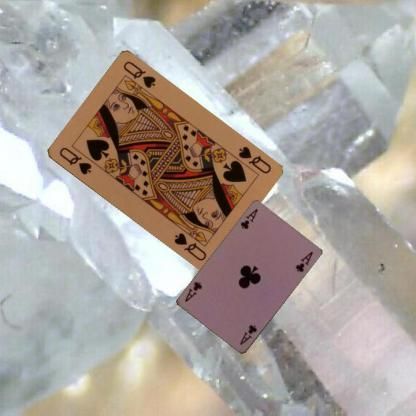Ac: (237, 321, 259, 347), (238, 206, 260, 232)
Qs: (235, 143, 272, 175), (56, 145, 92, 176)
